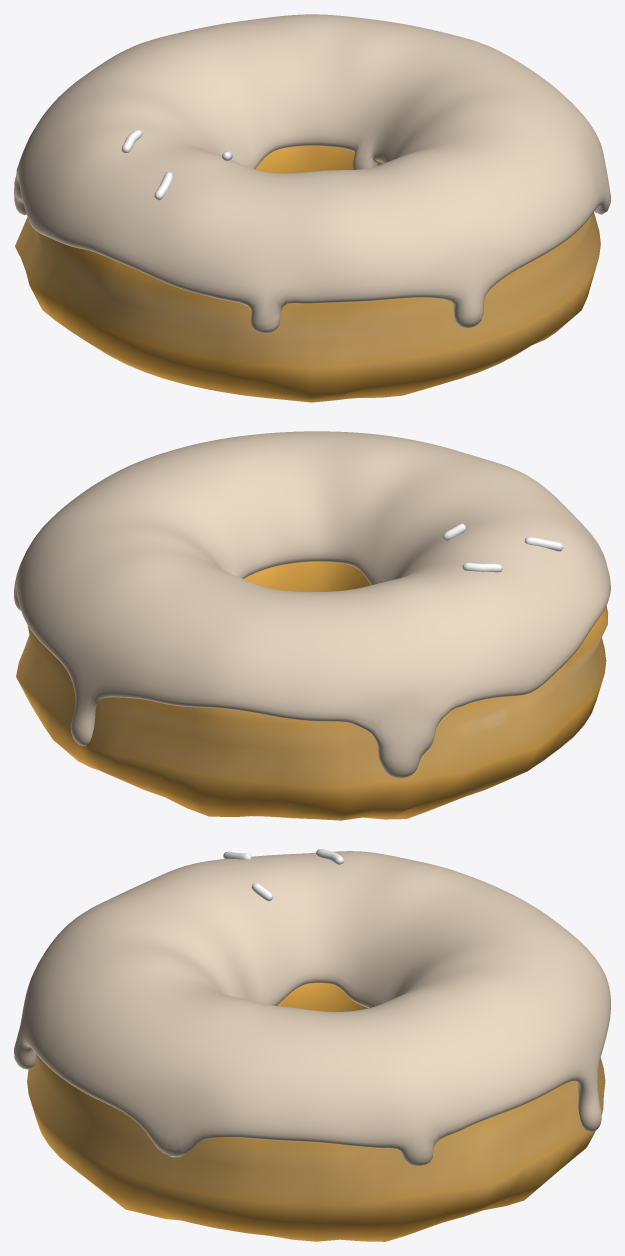
Rendered from Doughnut.glb.
3 renders of one model, top to bottom at view 1: azimuth 30°, elevation 25°; view 2: azimuth 150°, elevation 25°; view 3: azimuth 270°, elevation 25°, orthographic.
Parts seen in each view (by area): view 1: Icing, Doughnut; view 2: Icing, Doughnut; view 3: Icing, Doughnut.
Boxes of the visible parts, x1,y1,x2,y2 form: Icing: [14, 14, 610, 333]; Doughnut: [15, 146, 600, 402]; Icing: [14, 431, 610, 778]; Doughnut: [16, 561, 608, 820]; Icing: [14, 851, 610, 1166]; Doughnut: [27, 983, 605, 1241].
Size of the model in its own units: 0.0194 by 0.00803 by 0.0197.
Materials: 3 (1 with a texture image).
